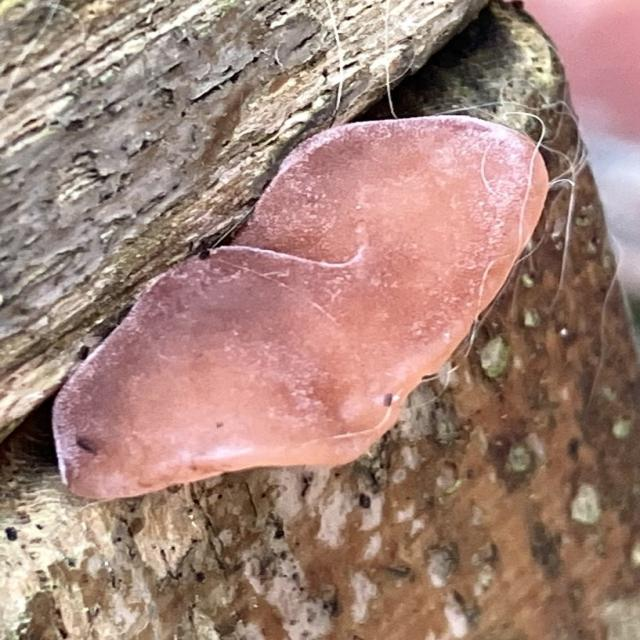Matang: (48, 107, 561, 504)
